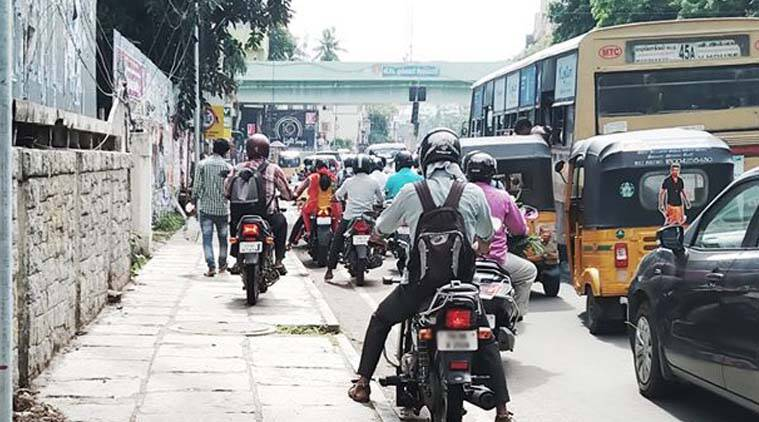bike: (386, 125, 474, 422), (463, 147, 535, 376), (227, 130, 288, 304), (338, 155, 384, 289), (304, 158, 337, 271)
bus: (468, 12, 759, 132)
car: (619, 159, 753, 422)
rickshaw: (565, 122, 674, 331)
